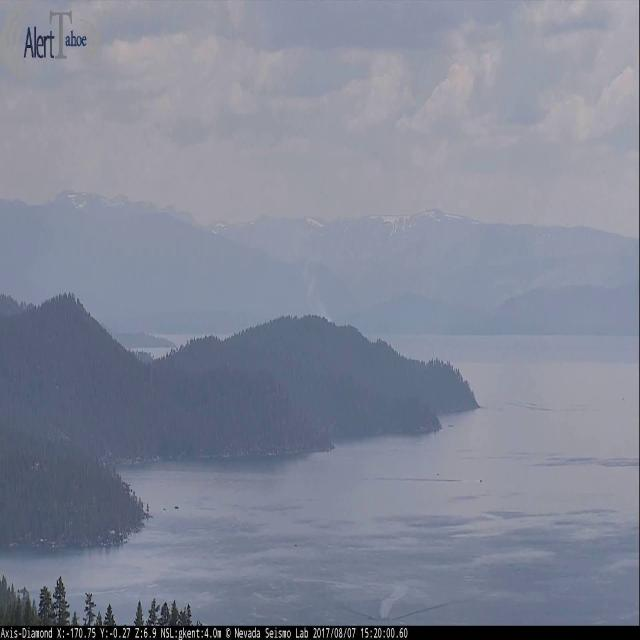smoke: (297, 253, 334, 330)
